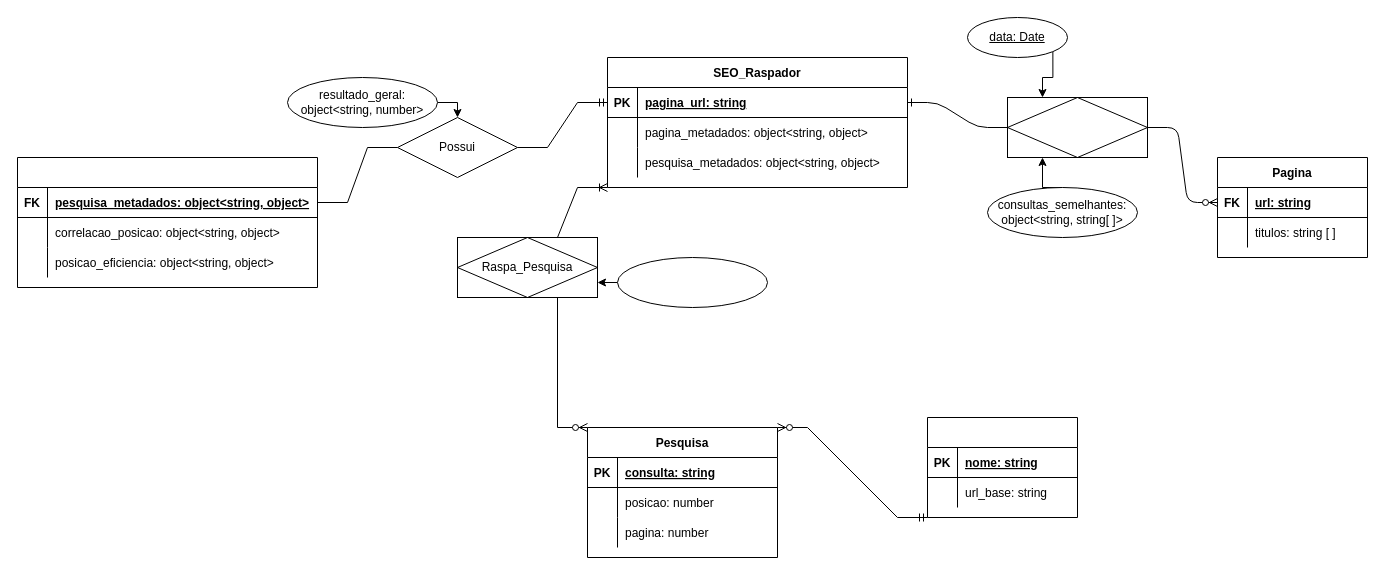
Some shapes in this 1385 by 575 pixel diagram are drawn without their labels. Each missing label, with the box of its shape:
Correlator_Pesquisa: (16, 156, 318, 288)
Ferramenta_Pesquisa: (926, 416, 1078, 518)
Raspa_Pagina: (1006, 96, 1148, 158)
registros_pesquisa: object<string, object>: (616, 256, 768, 308)
